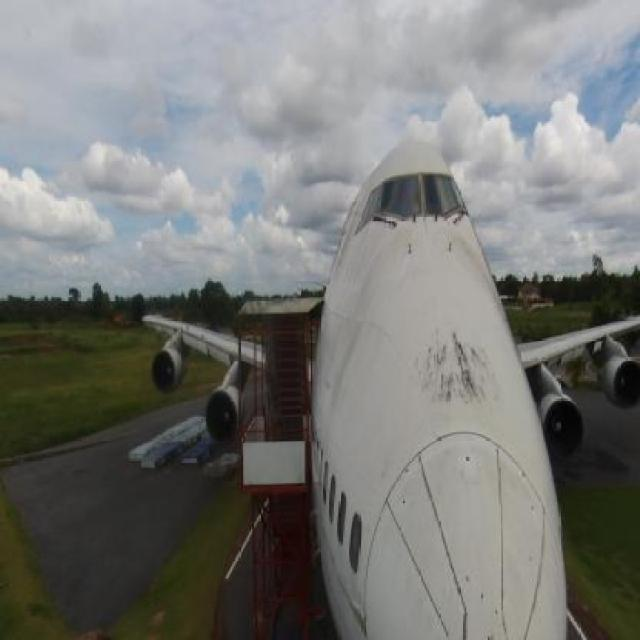Rust: (416, 328, 512, 424), (456, 246, 492, 312)
Scartch: (328, 240, 386, 386), (345, 603, 373, 635)
